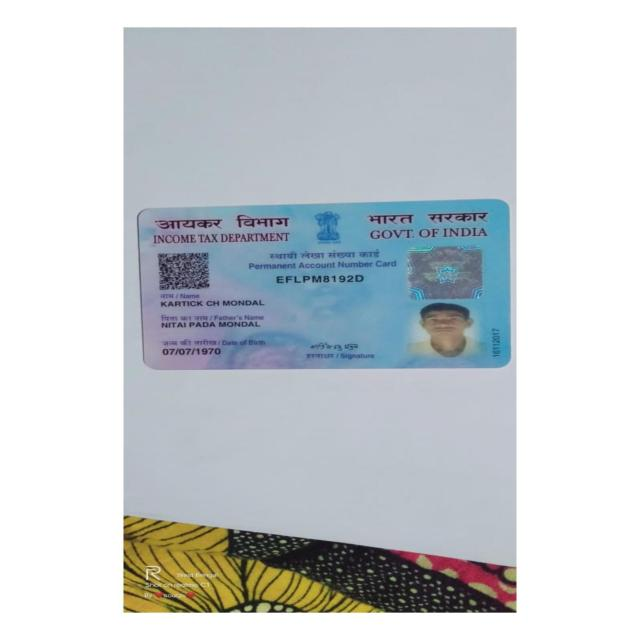pan_card: (138, 199, 511, 371)
